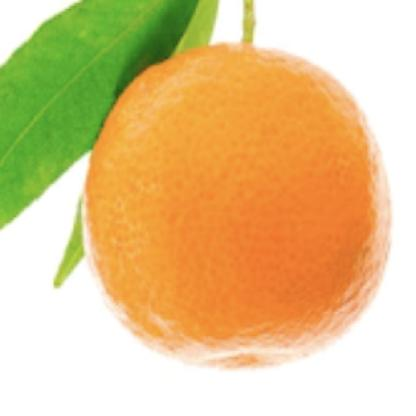fresh: (86, 40, 387, 365)
